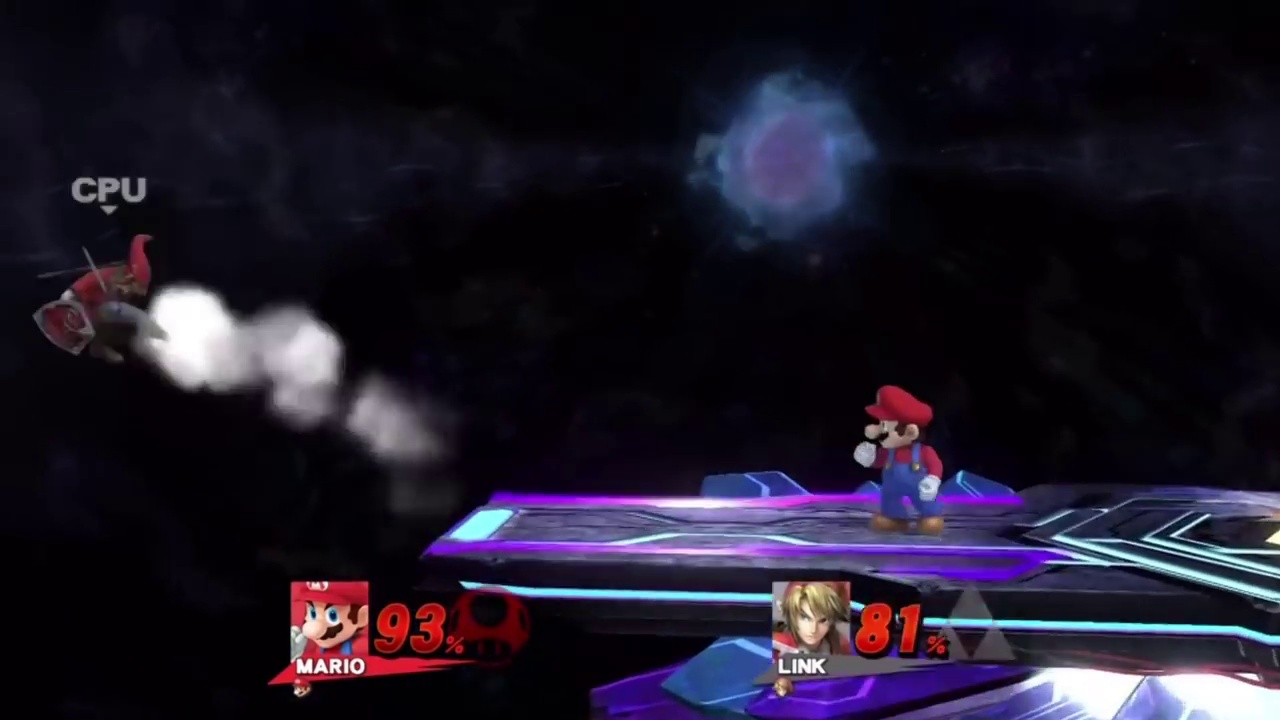Mario: (853, 387, 946, 538)
